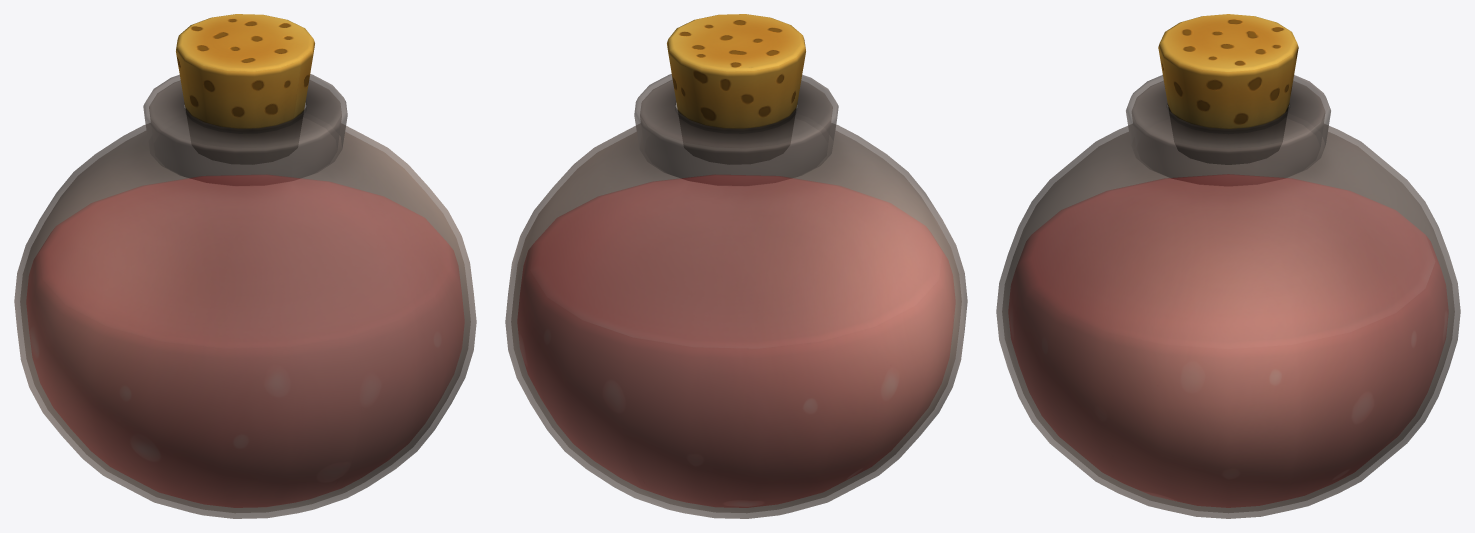
The model's file is PotionBottle.fbx.
3 views of the same model, side by side, from view 1: azimuth 30°, elevation 25°; view 2: azimuth 150°, elevation 25°; view 3: azimuth 270°, elevation 25° (orthographic).
Parts seen in each view (by area): view 1: PotionBottle; view 2: PotionBottle; view 3: PotionBottle.
Boxes of the visible parts, x1,y1,x2,y2 form: PotionBottle: [14, 14, 476, 518]; PotionBottle: [505, 14, 967, 518]; PotionBottle: [996, 14, 1460, 518].
Size of the model in its own units: 0.12 by 0.1292 by 0.12.
